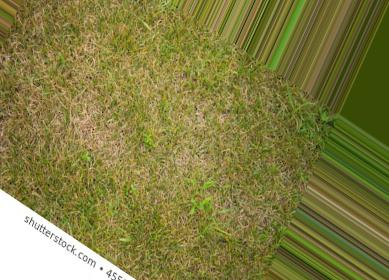patch: (84, 67, 147, 187), (154, 72, 204, 152), (60, 3, 137, 49), (33, 132, 92, 191), (160, 163, 198, 228), (153, 15, 191, 65), (26, 66, 57, 124), (213, 107, 238, 171), (93, 191, 135, 226), (29, 30, 55, 63)
